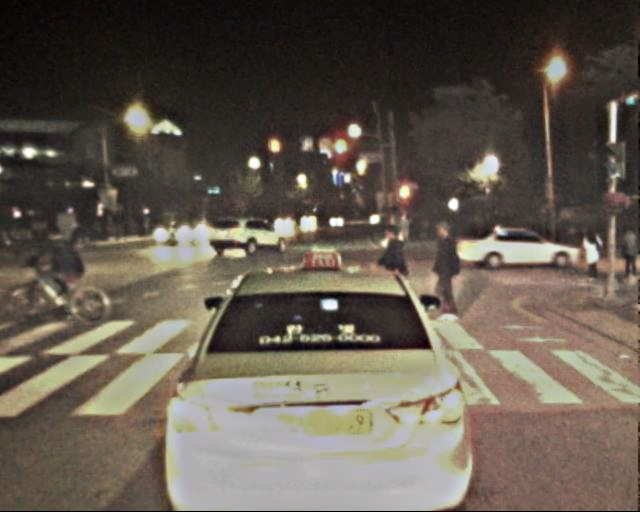person: (424, 224, 466, 326), (376, 221, 417, 321), (42, 222, 77, 308), (579, 228, 606, 294), (614, 227, 639, 288)
